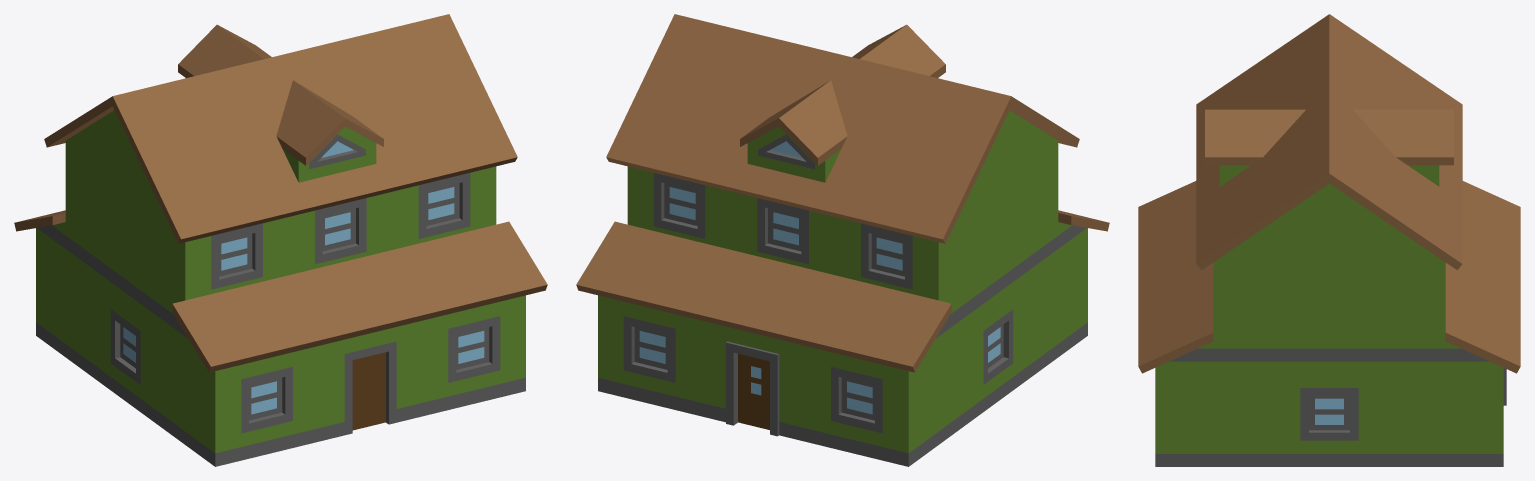
Rendered from house_type06.fbx.
The picture shows the model from 3 angles, left to right: view 1: azimuth 30°, elevation 25°; view 2: azimuth 150°, elevation 25°; view 3: azimuth 270°, elevation 25°; orthographic projection. The views are drawn at different scales.
Visible parts, largest first — view 1: house_type06; view 2: house_type06; view 3: house_type06.
Boxes of the visible parts, left/top/right/bottom form: house_type06: left=14, top=14, right=547, bottom=466; house_type06: left=576, top=14, right=1109, bottom=466; house_type06: left=1138, top=14, right=1520, bottom=466.
Size of the model in its own units: 13 by 11.38 by 13.16.
Materials: 1 (1 with a texture image).
